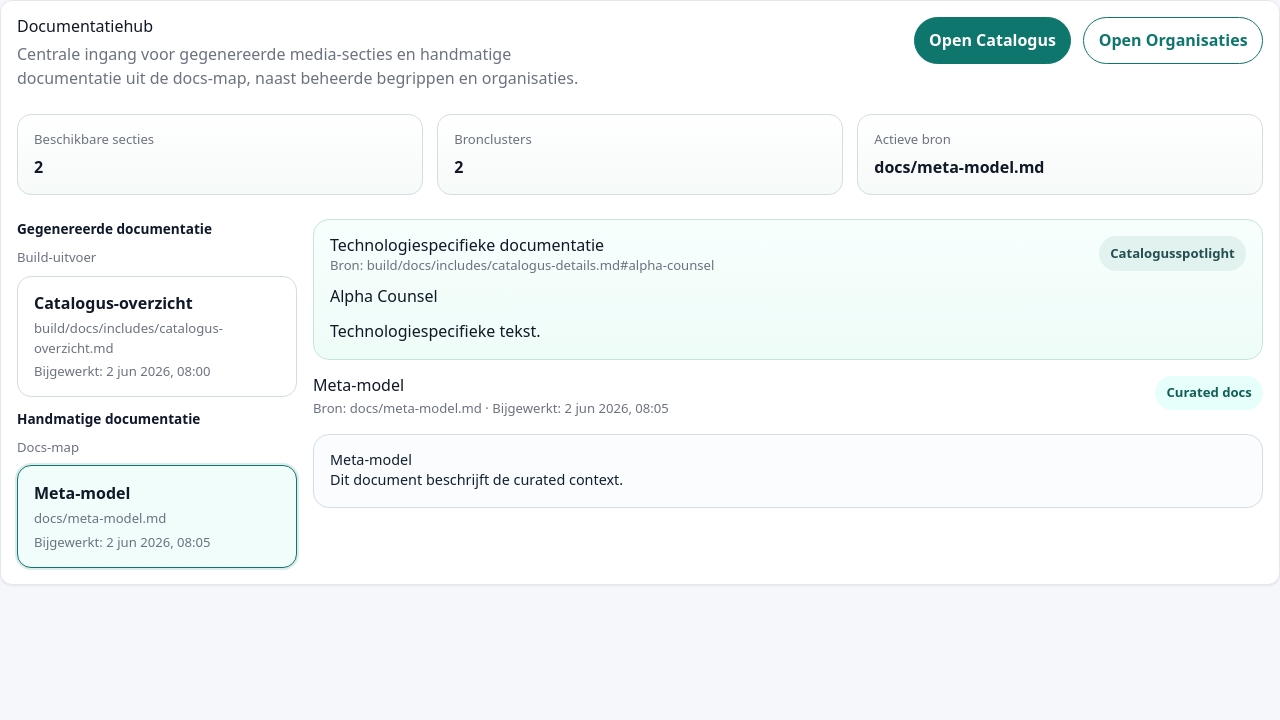
Test: DocumentationHubPage › loads grouped documentation, honors deep-link params, and switches rendered markdown sections
Check: the heading "Documentatiehub" is shown, box 17,15 -> 153,37
Check: the text "Dit document beschrijft de curated context." is shown, box 330,470 -> 623,489
Click the button "Catalogus" at coordinates (157, 336), box 17,276 -> 297,397
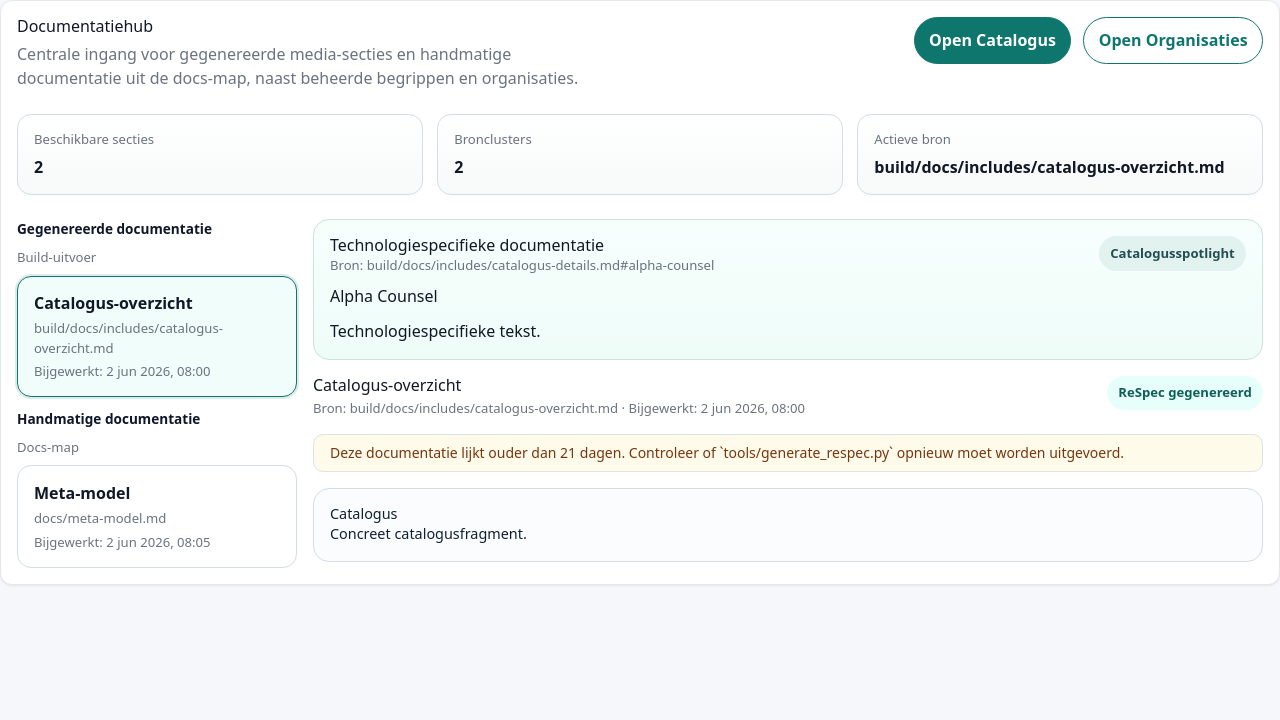
Check: the text "Concreet catalogusfragment." is shown, box 330,524 -> 527,543
